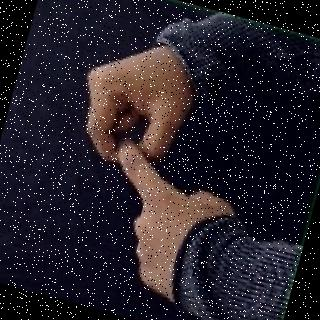Q: (28, 18, 266, 310)
